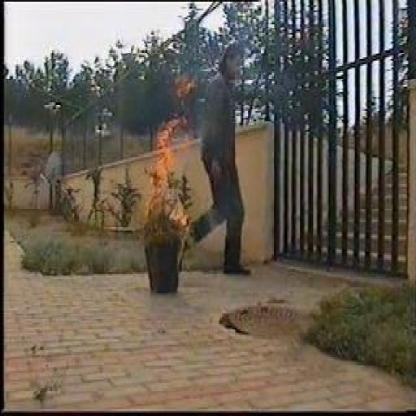foggia-v2-map80-epoch100 - v1 4323: (148, 123, 186, 224)
